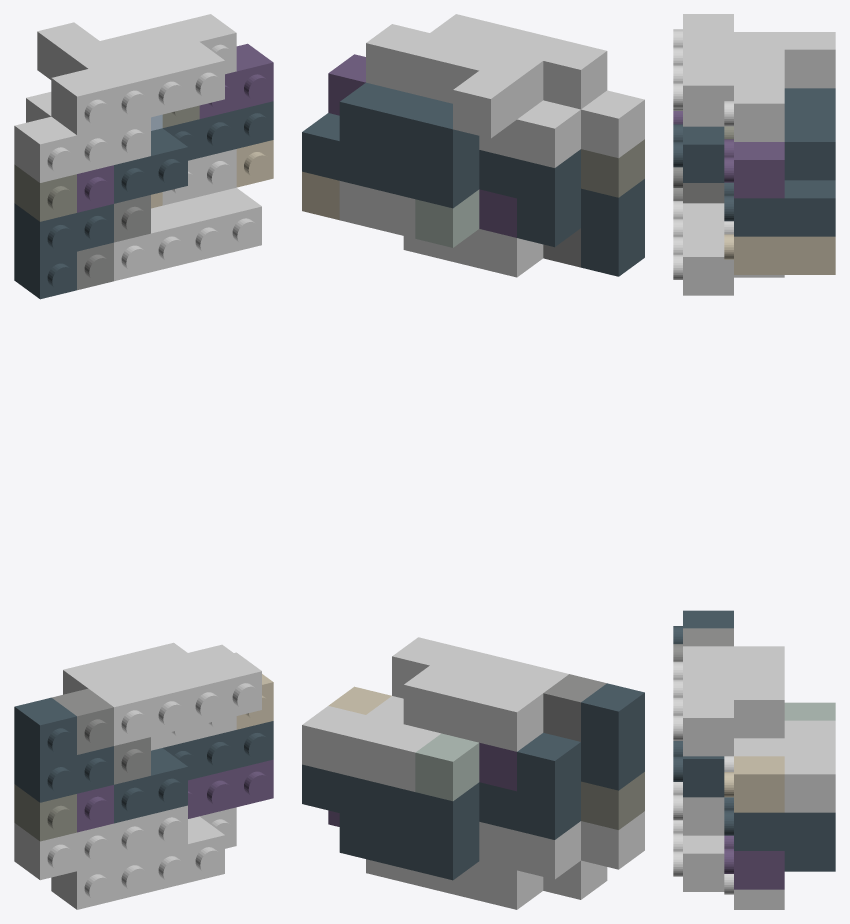
File: full.glb
3 views of the same model, side by side, from view 1: azimuth 30°, elevation 25°; view 2: azimuth 150°, elevation 25°; view 3: azimuth 270°, elevation 25° (orthographic). The views are drawn at different scales.
Visible parts, largest first — view 1: world; view 2: world; view 3: world.
Boxes of the visible parts, x1=… form: world: x1=14, y1=14, x2=273, y2=909; world: x1=302, y1=14, x2=644, y2=909; world: x1=673, y1=14, x2=835, y2=909.
Bounding box in the file's own units: 56 × 168 × 30.6.
